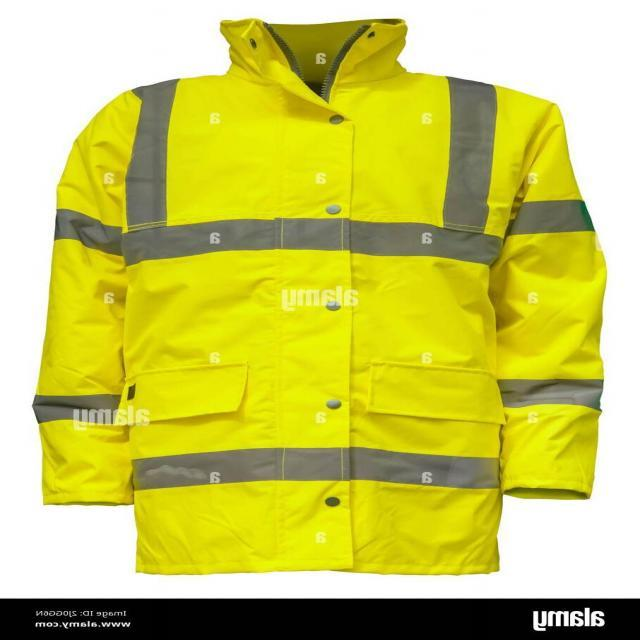reflective_jacket: (16, 32, 626, 584)
